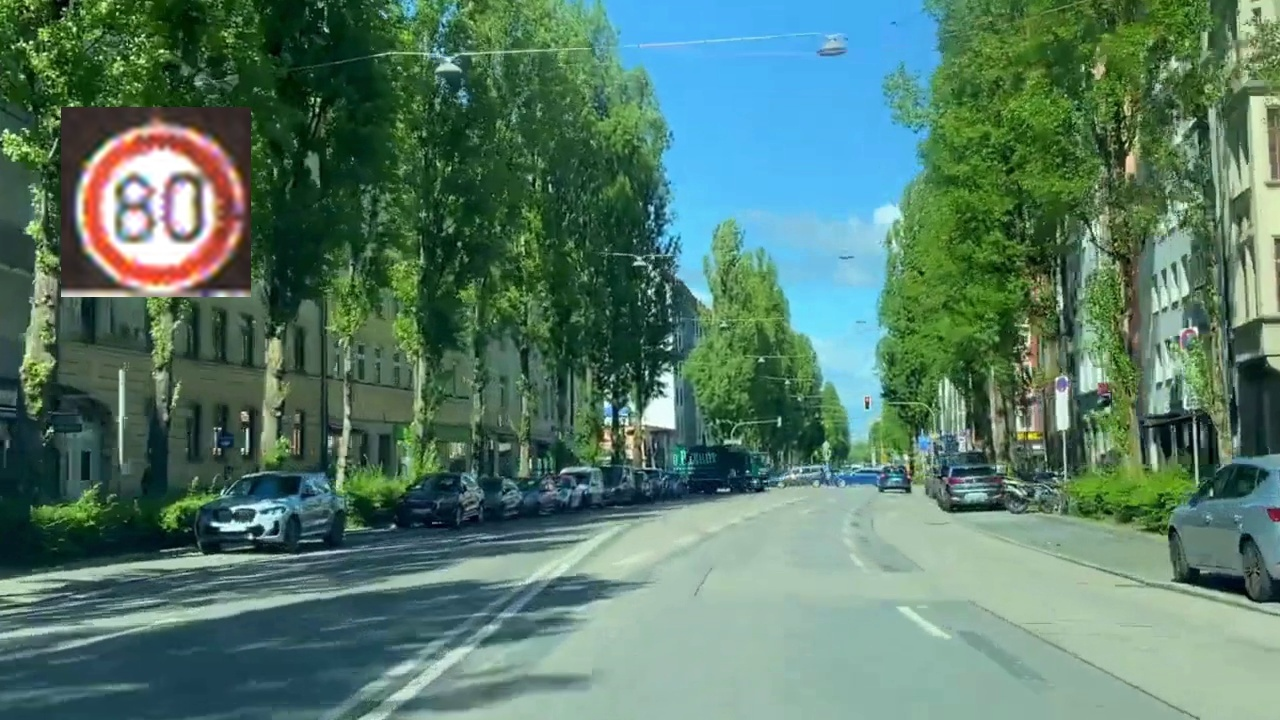Speed 80: (61, 107, 251, 297)
